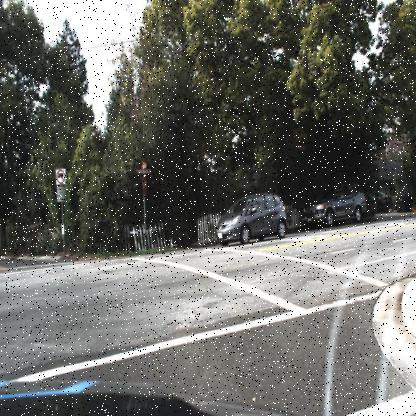car: (213, 191, 287, 246), (302, 180, 368, 230), (370, 188, 392, 214)
